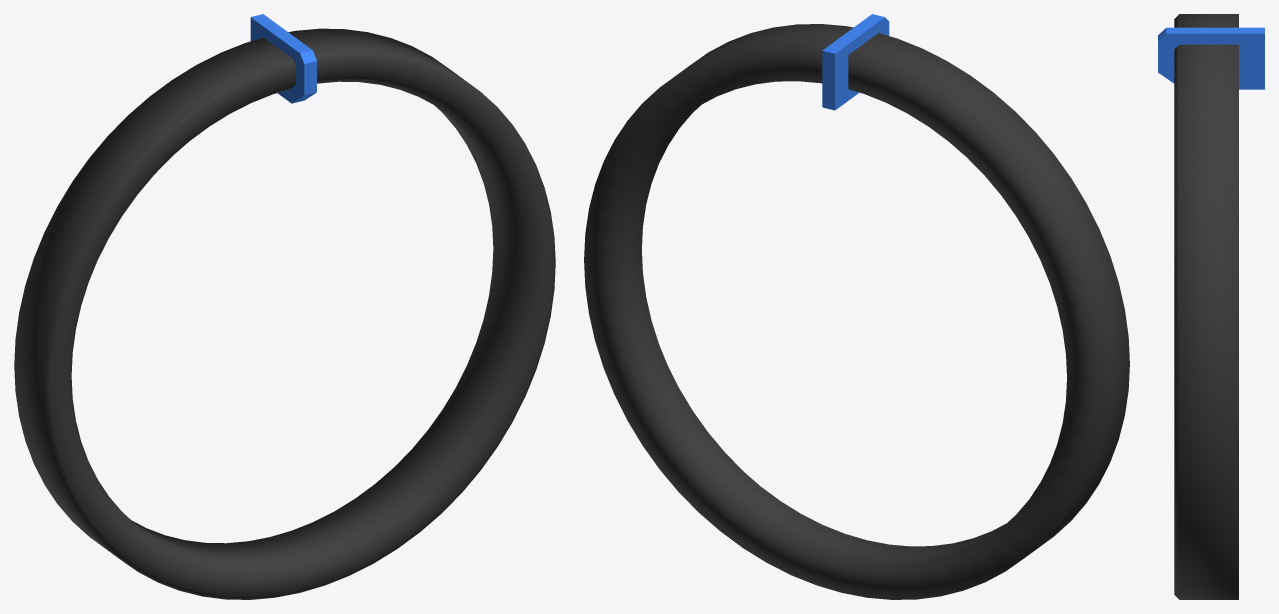
3 views of the same model, side by side, from view 1: azimuth 30°, elevation 25°; view 2: azimuth 150°, elevation 25°; view 3: azimuth 270°, elevation 25° (orthographic).
Parts seen in each view (by area): view 1: Circle, Circle.001; view 2: Circle, Circle.001; view 3: Circle, Circle.001.
Part boxes in pixels (x1,y1,x2,y2): Circle: [14, 28, 555, 599]; Circle.001: [250, 14, 316, 103]; Circle: [584, 24, 1129, 599]; Circle.001: [822, 14, 889, 110]; Circle: [1174, 14, 1238, 599]; Circle.001: [1158, 27, 1264, 89].
Bounding box in the file's own units: 8 × 8.16 × 1.46.
